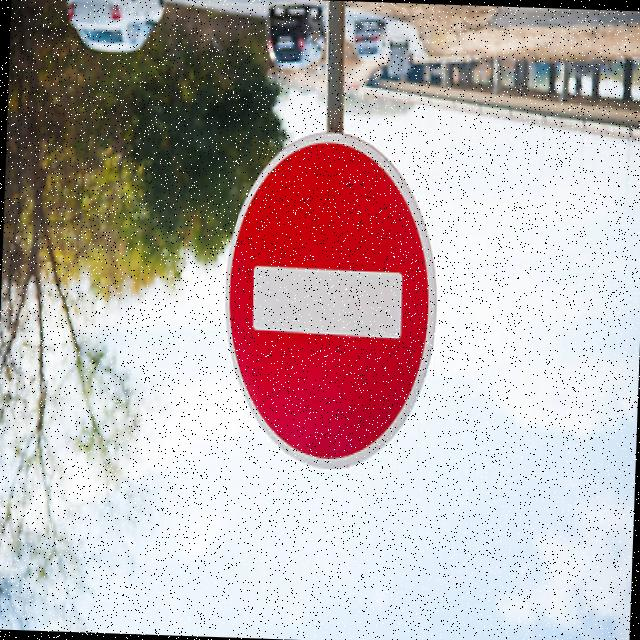do_not_enter: (210, 119, 455, 491)
